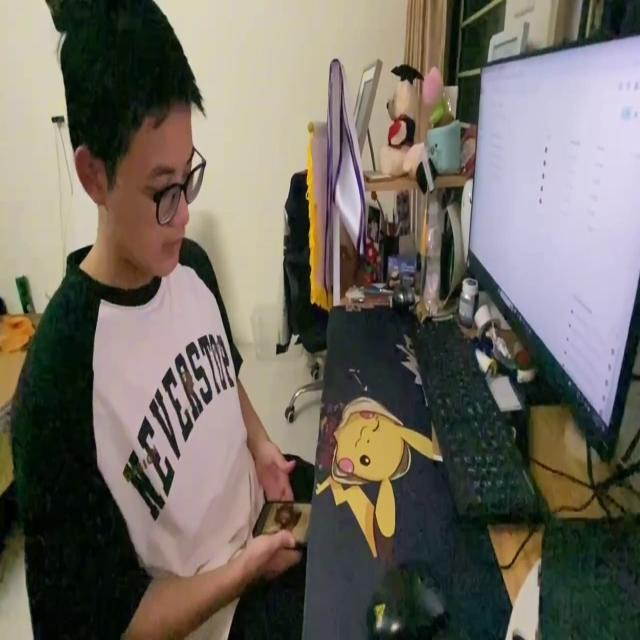laptop: (459, 29, 640, 469)
phone: (252, 491, 308, 554)
student: (11, 0, 307, 640)
